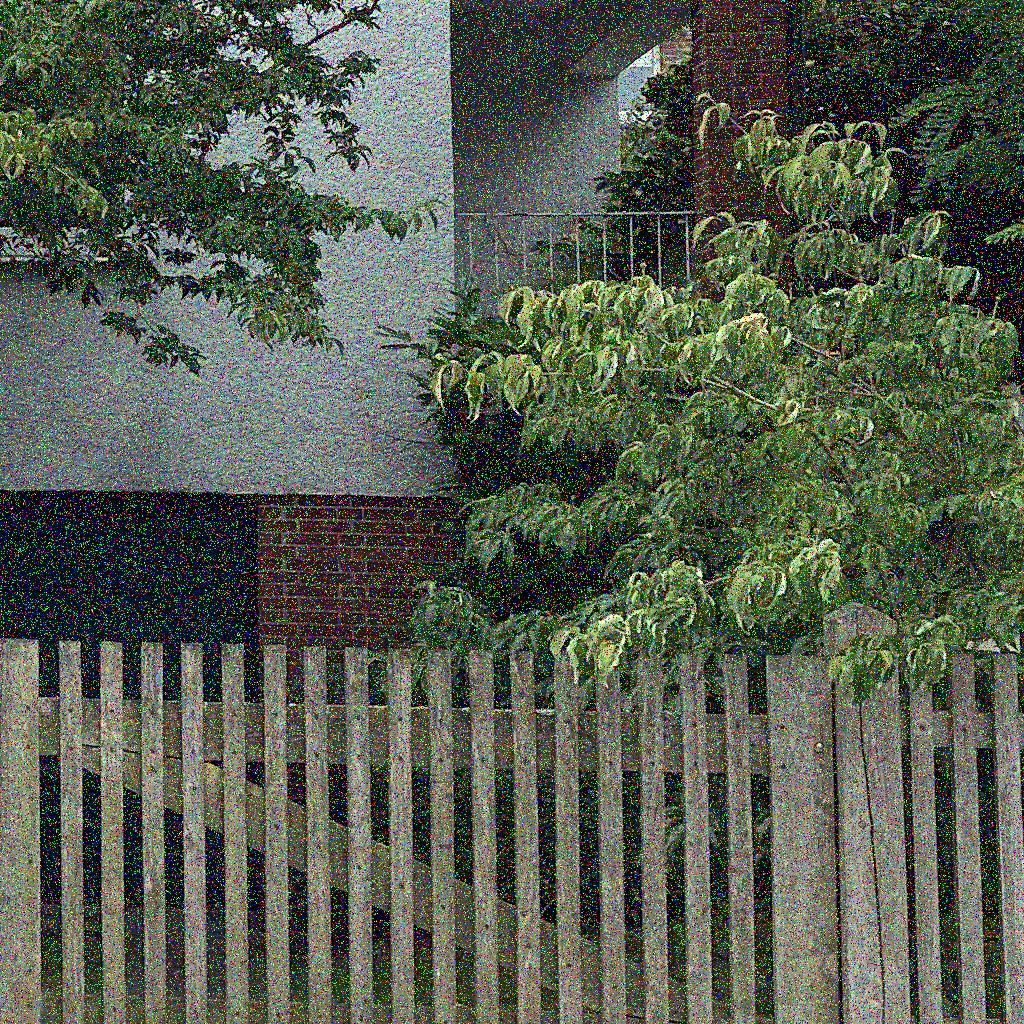tree: (1, 1, 450, 380)
